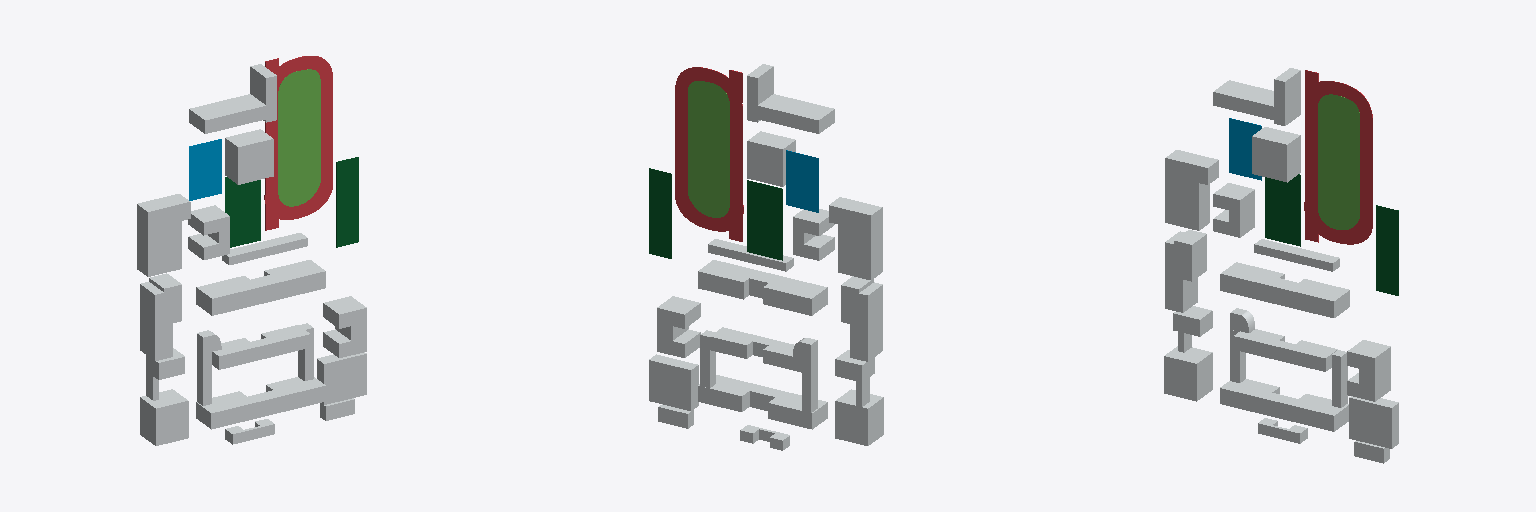
Rendered from building.obj.
3 views of the same model, side by side, from view 1: azimuth 30°, elevation 25°; view 2: azimuth 150°, elevation 25°; view 3: azimuth 330°, elevation 25° (orthographic).
Parts seen in each view (by area): view 1: obj_0; view 2: obj_0; view 3: obj_0.
Boxes of the visible parts, <box> form: obj_0: <box>137,56,366,445</box>; obj_0: <box>649,64,883,450</box>; obj_0: <box>1164,68,1398,463</box>.
Bounding box in the file's own units: 68 × 108 × 8.5.